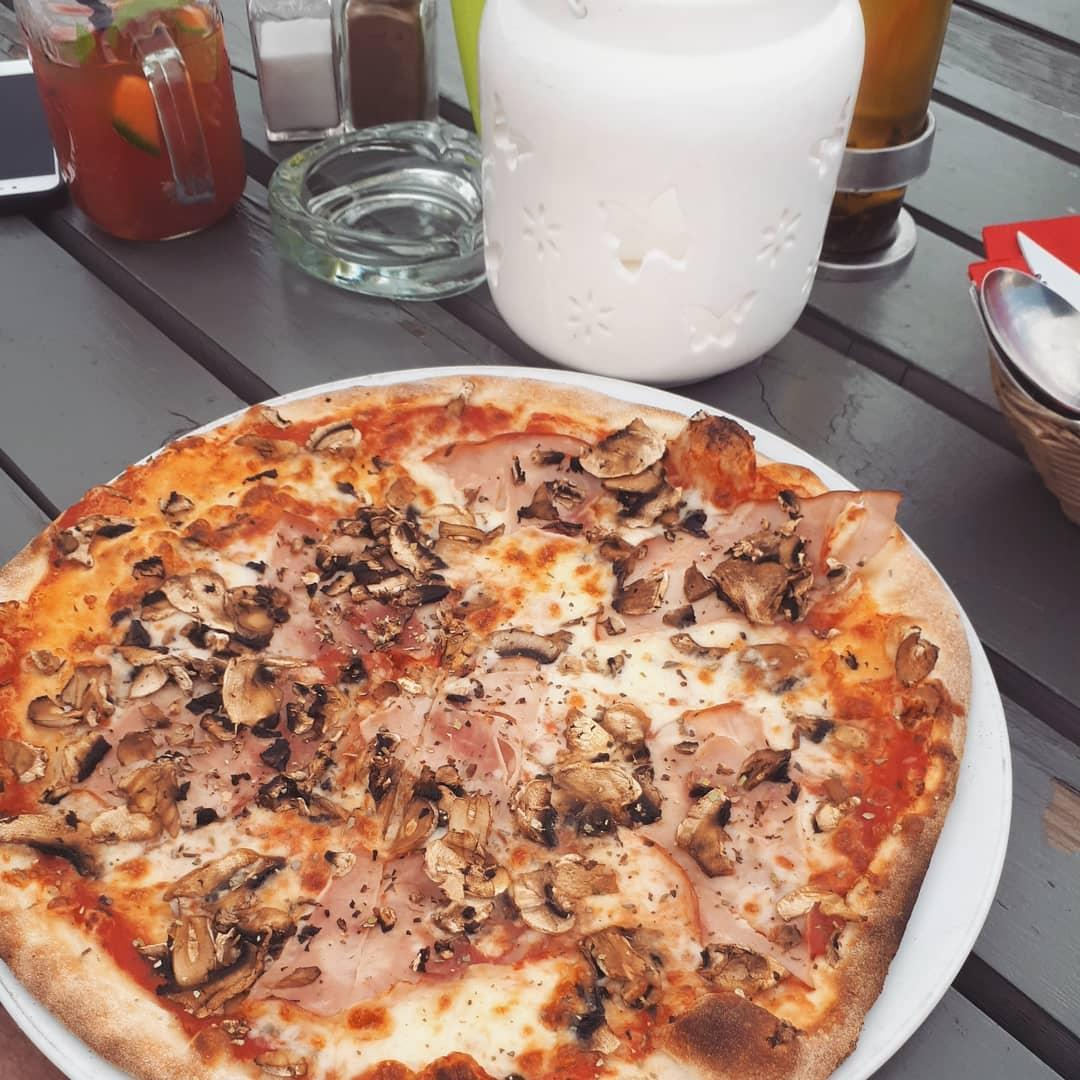Ham: (663, 702, 808, 966), (615, 488, 907, 579), (303, 849, 431, 1019), (417, 420, 580, 520)
Mushroom: (124, 563, 298, 728), (163, 848, 302, 980), (519, 710, 652, 826), (357, 735, 491, 847), (326, 499, 451, 600), (431, 863, 577, 937), (581, 421, 682, 524), (705, 532, 816, 624)
Pizza: (0, 370, 975, 1080)
